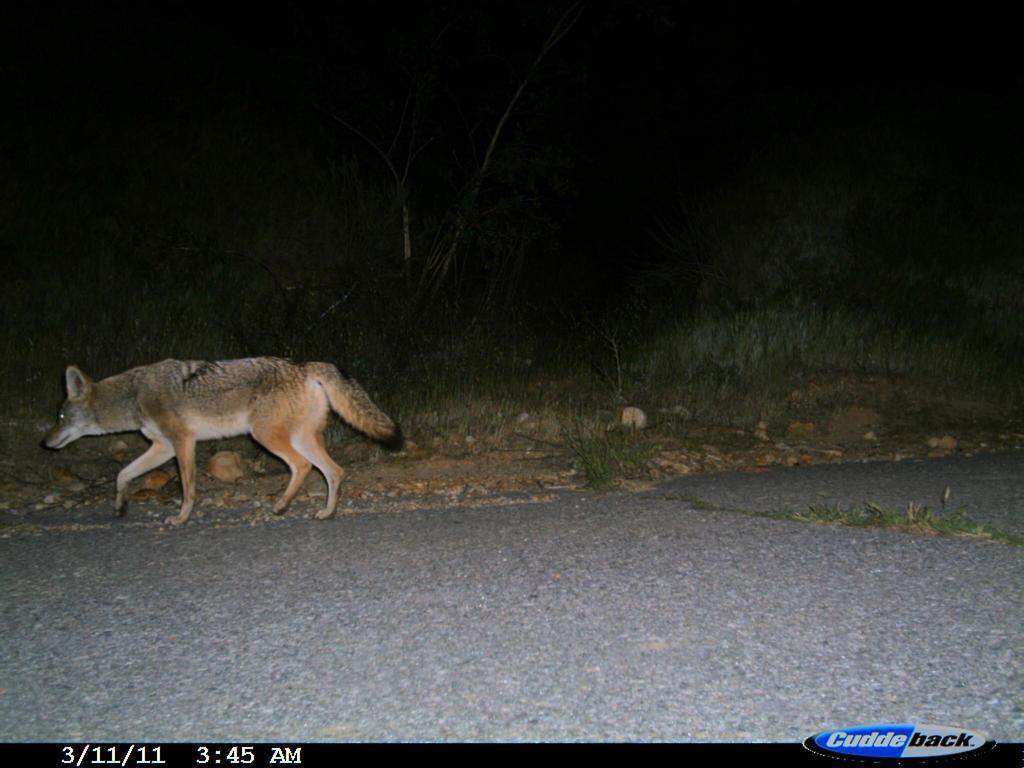coyote: (36, 354, 410, 532)
